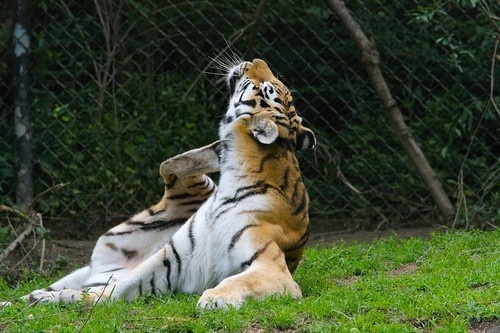tigre: (18, 56, 319, 314)
